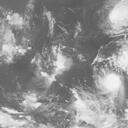cyclone: (100, 71, 126, 98)
